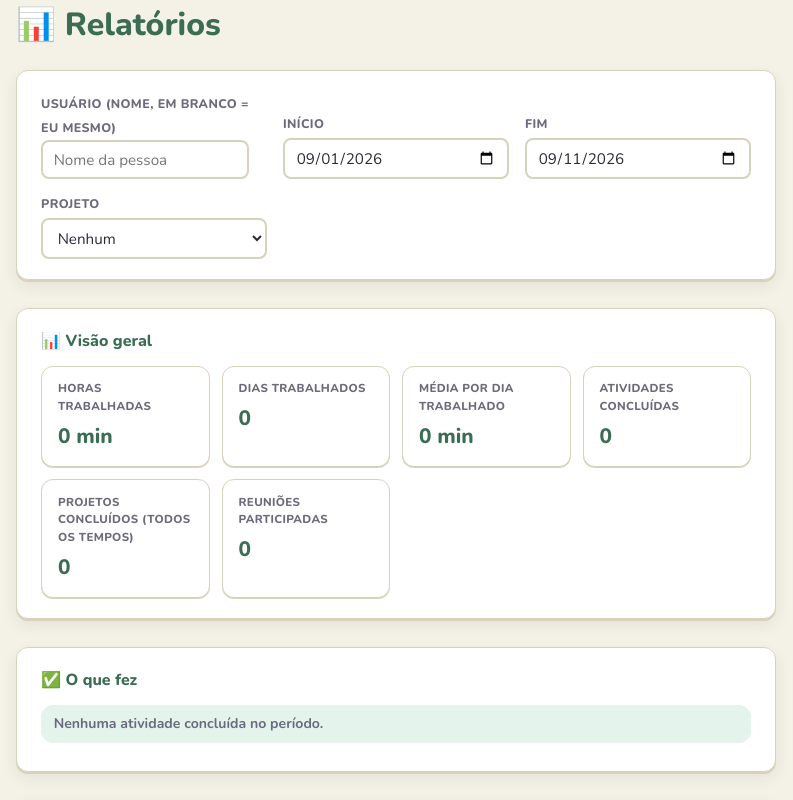
Test: RelatoriosPage › digita o nome de uma pessoa cadastrada e filtra o saldo por ela
Note: pedido do usuário: digita o nome, não o id - "Beto Lima" está entre as pessoas cadastradas.
In the dropdown labelled "Usuário (nome, em branco = eu mesmo)": (145, 160) [41,140,249,179], type "Beto Lima"
(page scrolled)
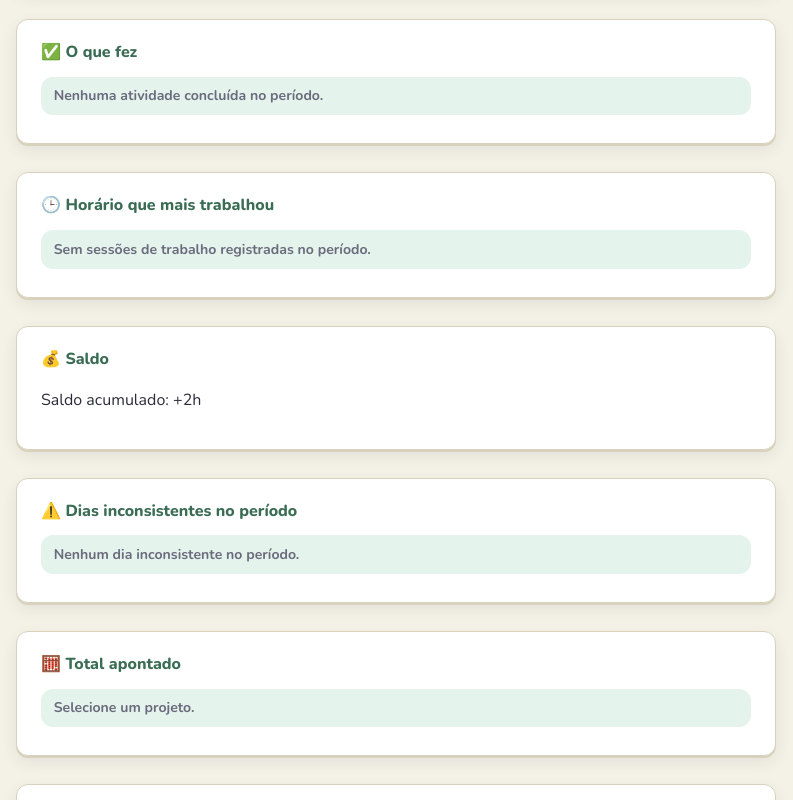
expect the text "Saldo acumulado: +2h" is shown: met, box [41,389,201,411]
